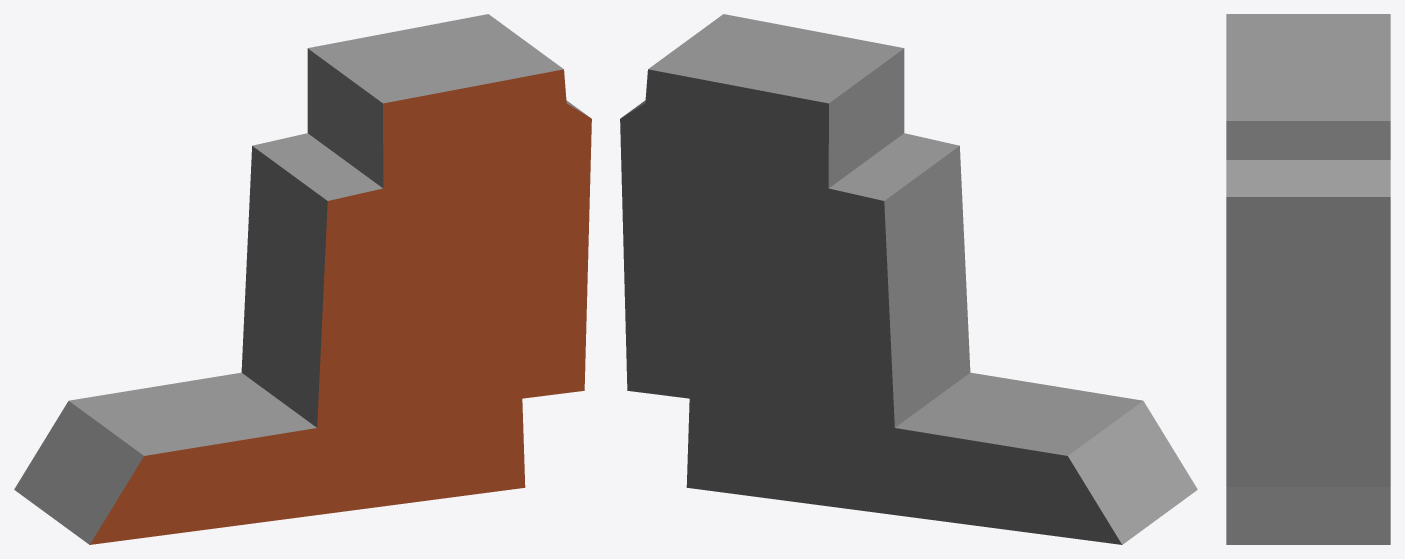
File: construction_1015_assumed_A_Casa_h6m.obj
The picture shows the model from 3 angles, left to right: view 1: azimuth 30°, elevation 25°; view 2: azimuth 150°, elevation 25°; view 3: azimuth 270°, elevation 25°; orthographic projection. The views are drawn at different scales.
Parts seen in each view (by area): view 1: construction_1015_assumed_A_Casa; view 2: construction_1015_assumed_A_Casa; view 3: construction_1015_assumed_A_Casa.
Boxes of the visible parts, x1,y1,x2,y2 form: construction_1015_assumed_A_Casa: [14, 14, 591, 544]; construction_1015_assumed_A_Casa: [620, 14, 1197, 544]; construction_1015_assumed_A_Casa: [1226, 14, 1390, 544].
Size of the model in its own units: 23.02 by 18.35 by 6.
